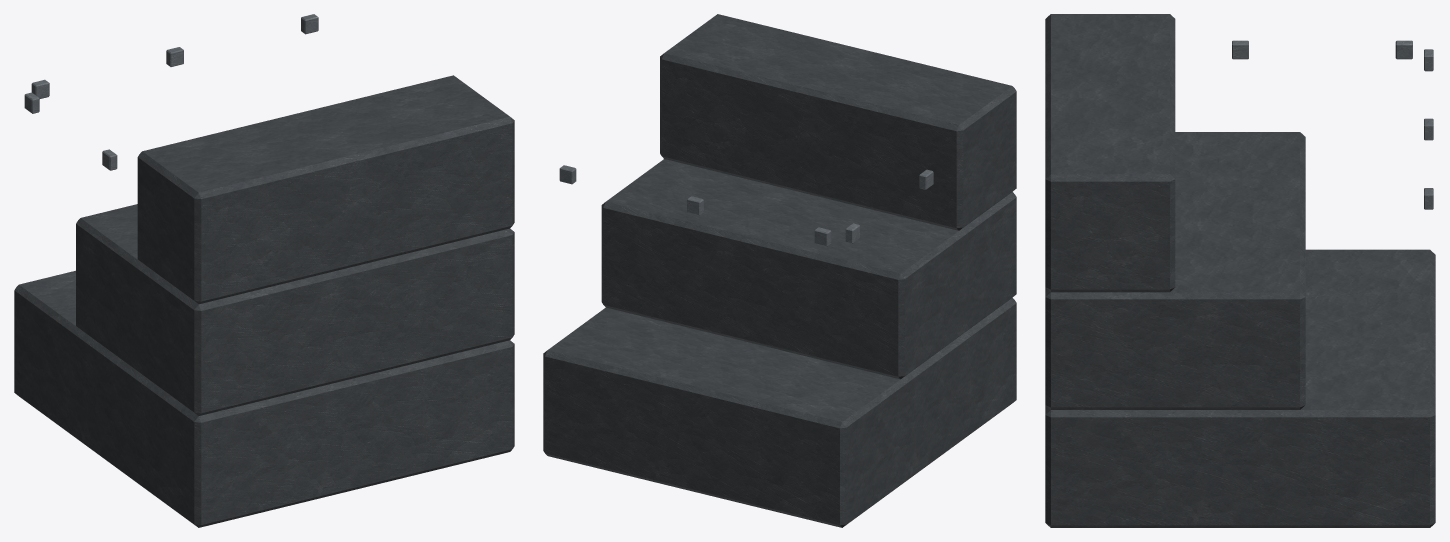
The model's file is train_sheet_metal_stairs.gltf.
3 views of the same model, side by side, from view 1: azimuth 30°, elevation 25°; view 2: azimuth 150°, elevation 25°; view 3: azimuth 270°, elevation 25° (orthographic). The views are drawn at different scales.
Size of the model in its own units: 1 by 1 by 1.
2 materials, 2 textured.
